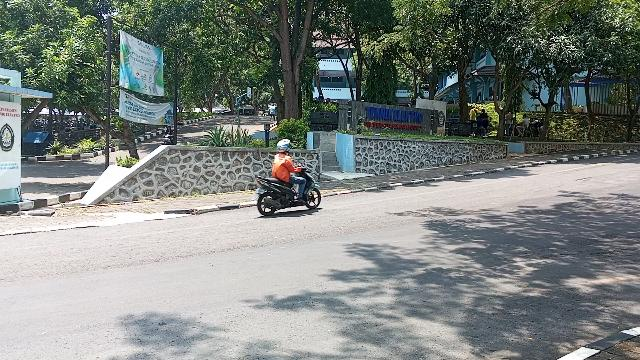helm: (278, 141, 293, 154)
motor: (256, 167, 323, 217)
